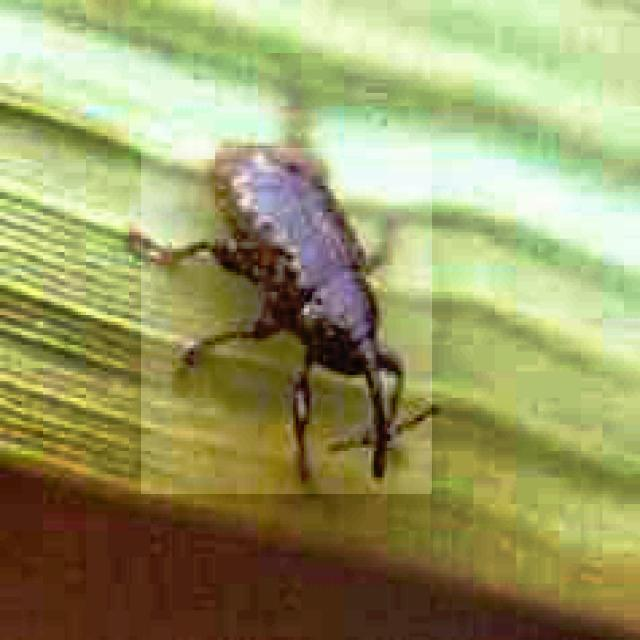rice-bug: (141, 148, 432, 494)
